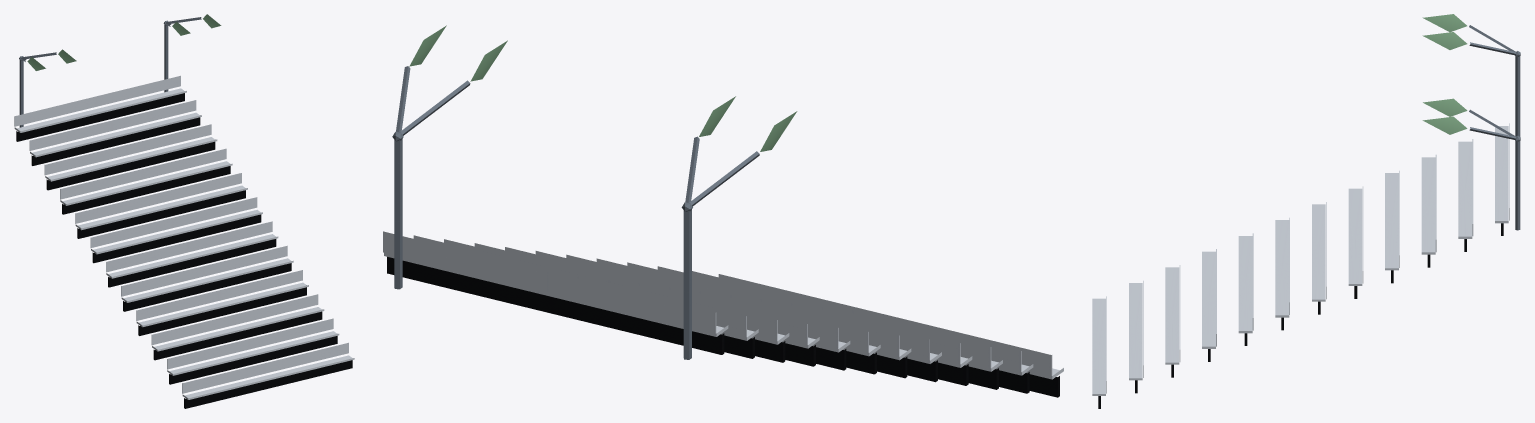
Rendered from tt_stand_module_f3_seats.glb.
3 renders of one model, left to right at view 1: azimuth 30°, elevation 25°; view 2: azimuth 150°, elevation 25°; view 3: azimuth 270°, elevation 25°, orthographic. The views are drawn at different scales.
Visible parts, largest first — view 1: Seat_Backs, Seat_Beams, Seat_Pans, Canopy_Steel, Canopy_Leaves; view 2: Seat_Backs, Seat_Beams, Canopy_Steel, Seat_Pans, Canopy_Leaves; view 3: Seat_Pans, Canopy_Leaves, Canopy_Steel, Seat_Backs, Seat_Beams.
Part boxes in pixels (bbox=[...]): Seat_Backs: bbox=[14, 75, 348, 393]; Seat_Beams: bbox=[16, 93, 352, 408]; Seat_Pans: bbox=[14, 88, 354, 399]; Canopy_Steel: bbox=[19, 17, 201, 127]; Canopy_Leaves: bbox=[27, 14, 221, 70]; Seat_Backs: bbox=[383, 231, 1052, 375]; Seat_Beams: bbox=[387, 257, 1059, 397]; Canopy_Steel: bbox=[392, 66, 759, 359]; Seat_Pans: bbox=[384, 252, 1063, 379]; Canopy_Leaves: bbox=[409, 25, 797, 151]; Seat_Pans: bbox=[1092, 126, 1508, 395]; Canopy_Leaves: bbox=[1422, 14, 1467, 134]; Canopy_Steel: bbox=[1469, 25, 1520, 230]; Seat_Backs: bbox=[1106, 123, 1509, 393]; Seat_Beams: bbox=[1098, 223, 1503, 408].
Size of what is drawn, in the model's own units: 6.4 by 8.41 by 11.12.
4 materials, 3 textured.
